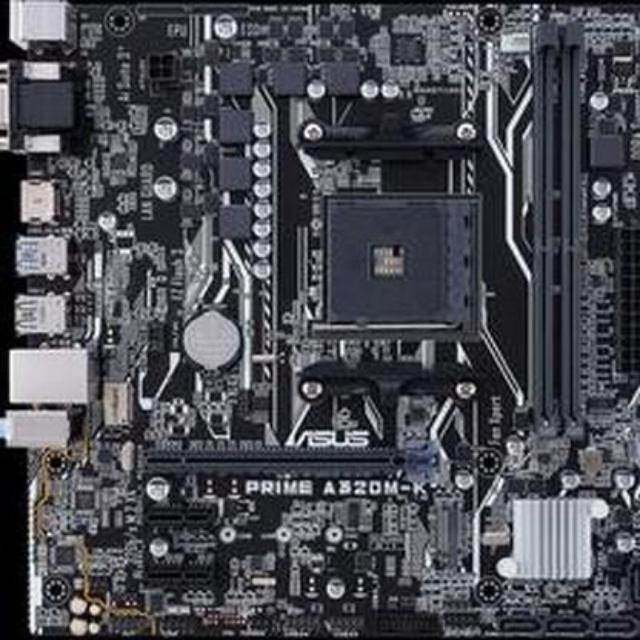Mainboard: (8, 2, 640, 640)
